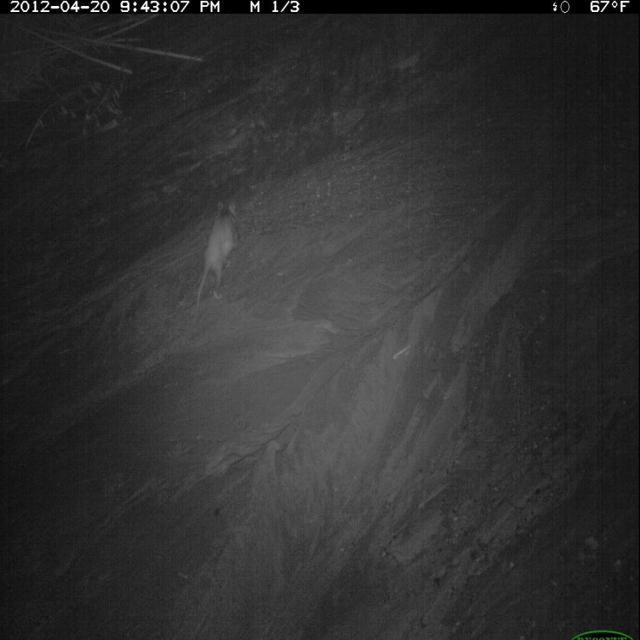opossum: (194, 198, 246, 322)
